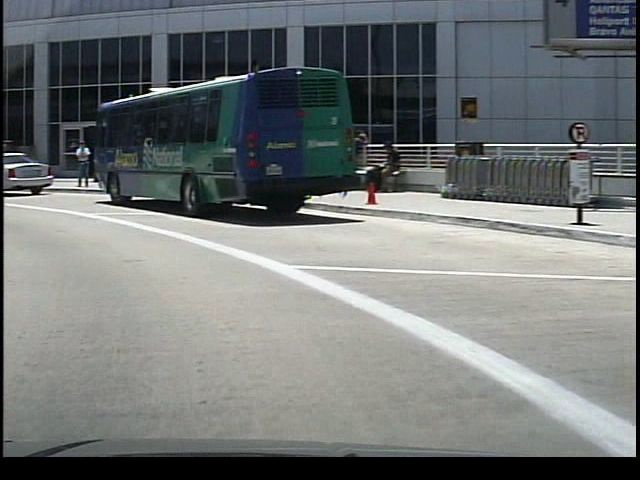person: (365, 138, 399, 198), (69, 140, 89, 191)
